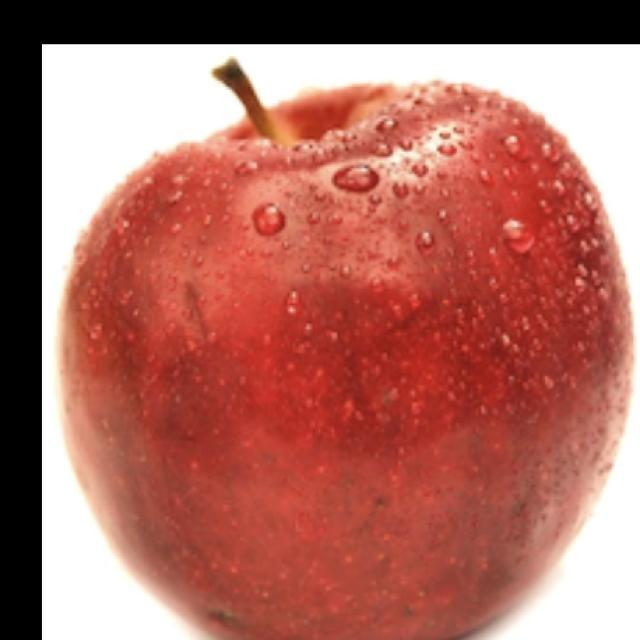Apple: (55, 57, 635, 639)
